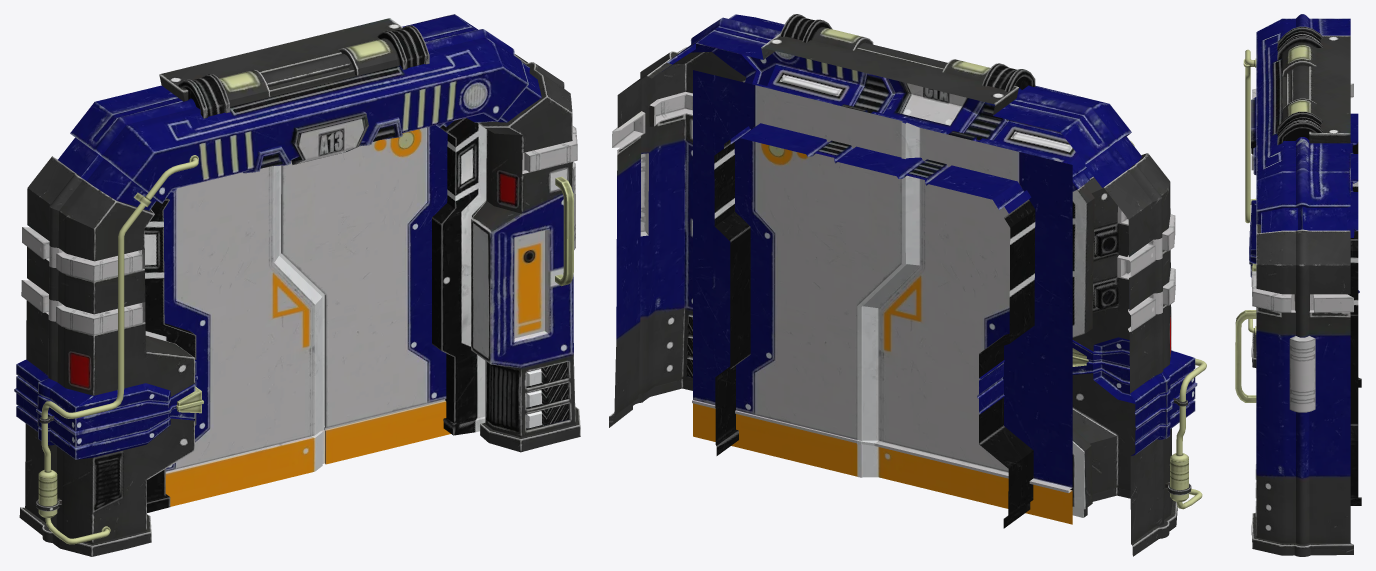
The model's file is keeper-door-2.glb.
The picture shows the model from 3 angles, left to right: view 1: azimuth 30°, elevation 25°; view 2: azimuth 150°, elevation 25°; view 3: azimuth 270°, elevation 25°; orthographic projection. The views are drawn at different scales.
Visible parts, largest first — view 1: door_003_01_-_Default_0; view 2: door_003_01_-_Default_0; view 3: door_003_01_-_Default_0.
Part boxes in pixels (x1,y1,x2,y2): door_003_01_-_Default_0: (14,14,580,556); door_003_01_-_Default_0: (609,14,1206,556); door_003_01_-_Default_0: (1235,14,1361,556).
Bounding box in the file's own units: 27.78 × 20.86 × 6.41.
1 material, 1 textured.
